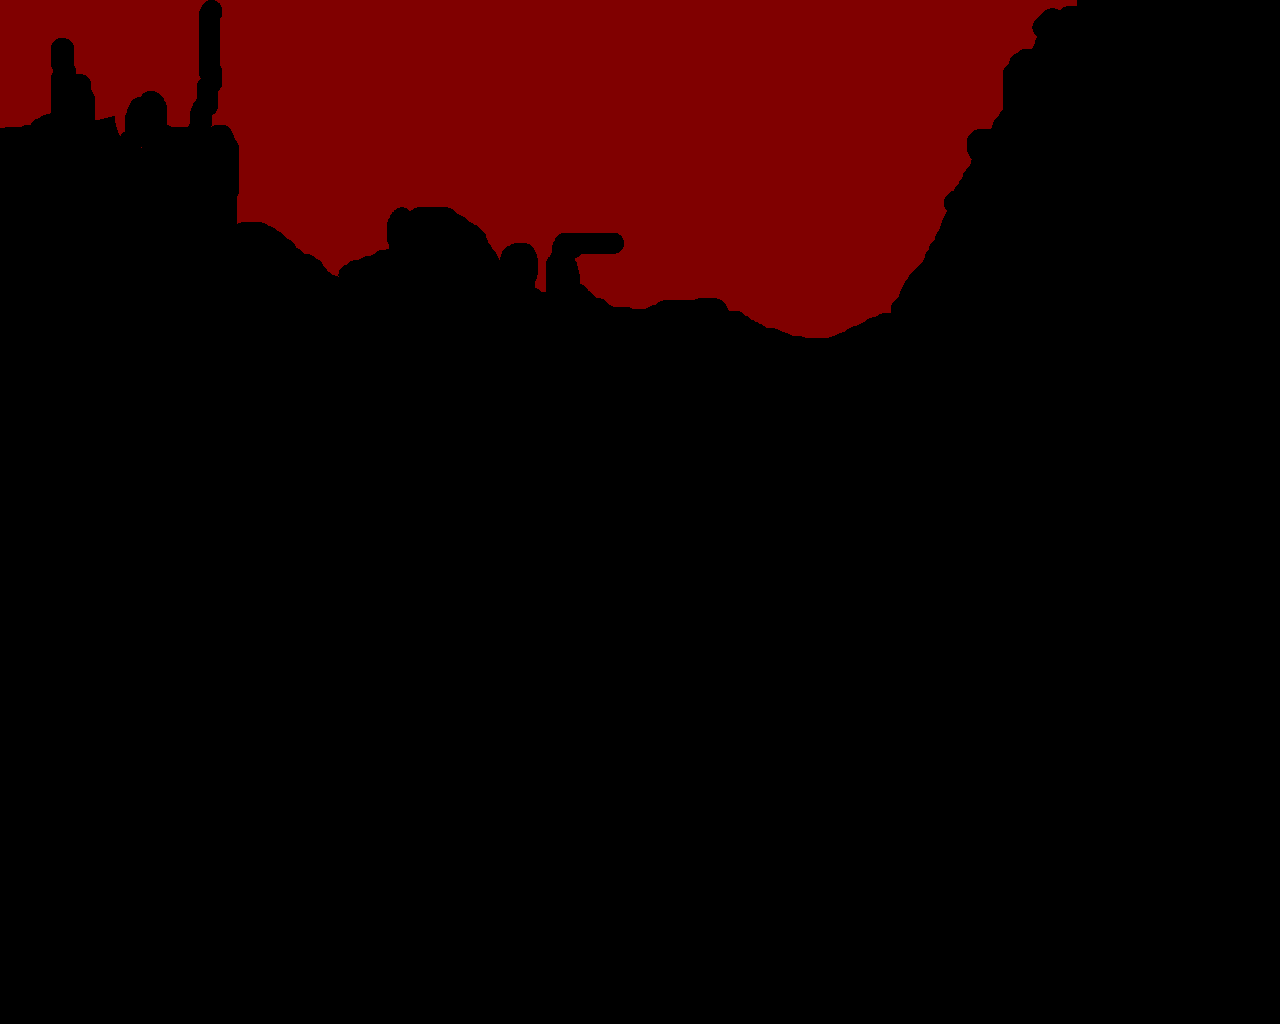Sky: (1, 1, 1076, 338)
